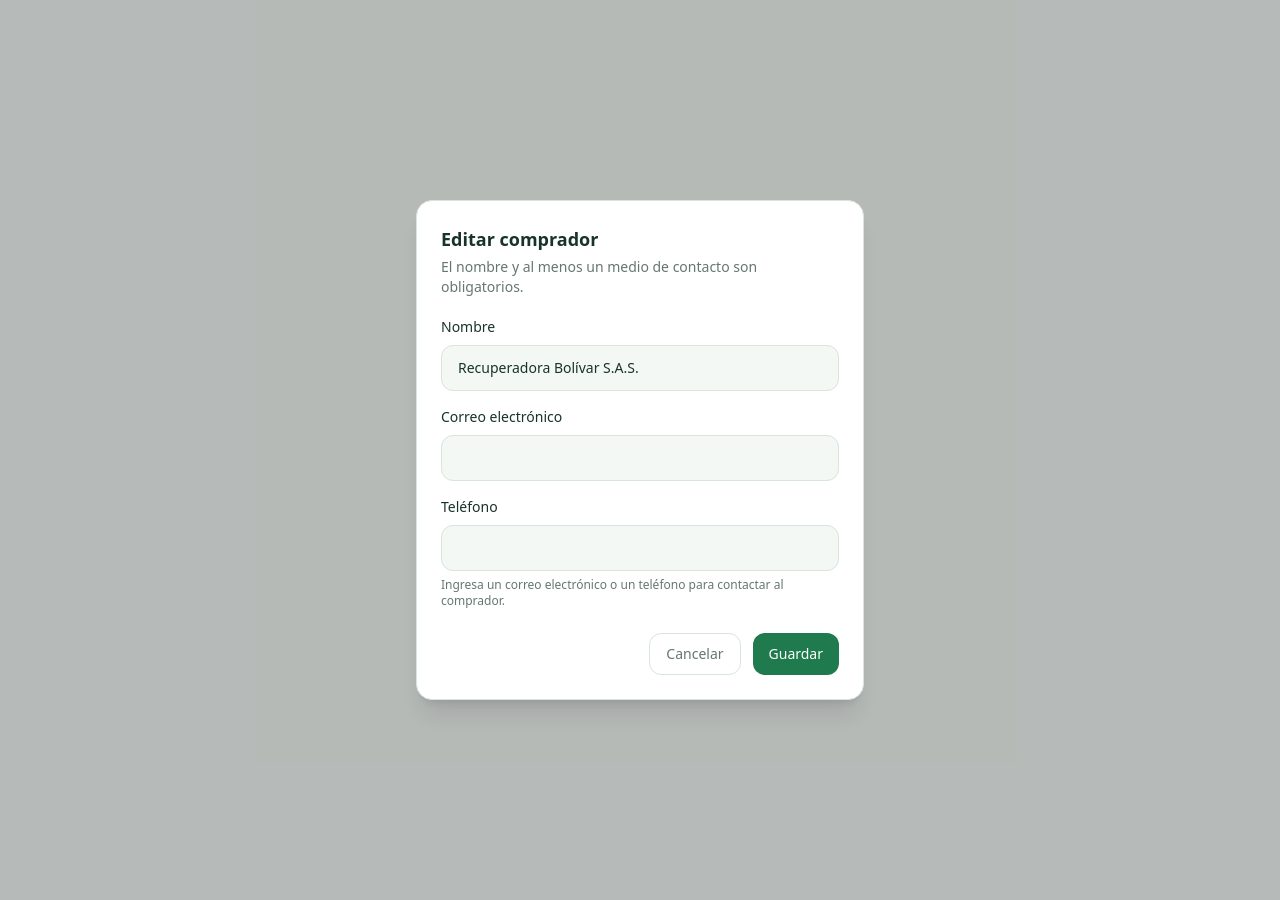
BuyerFormModal Component - Gestión de Compradores y Accesibilidad › 7. Mantiene visible un comprador antiguo sin contacto y valida únicamente al guardar
Expected: the field showing "Recuperadora Bolívar S.A.S." is shown, [441, 345, 839, 391]
Click the button "Guardar" at (796, 654), box [752, 633, 839, 675]
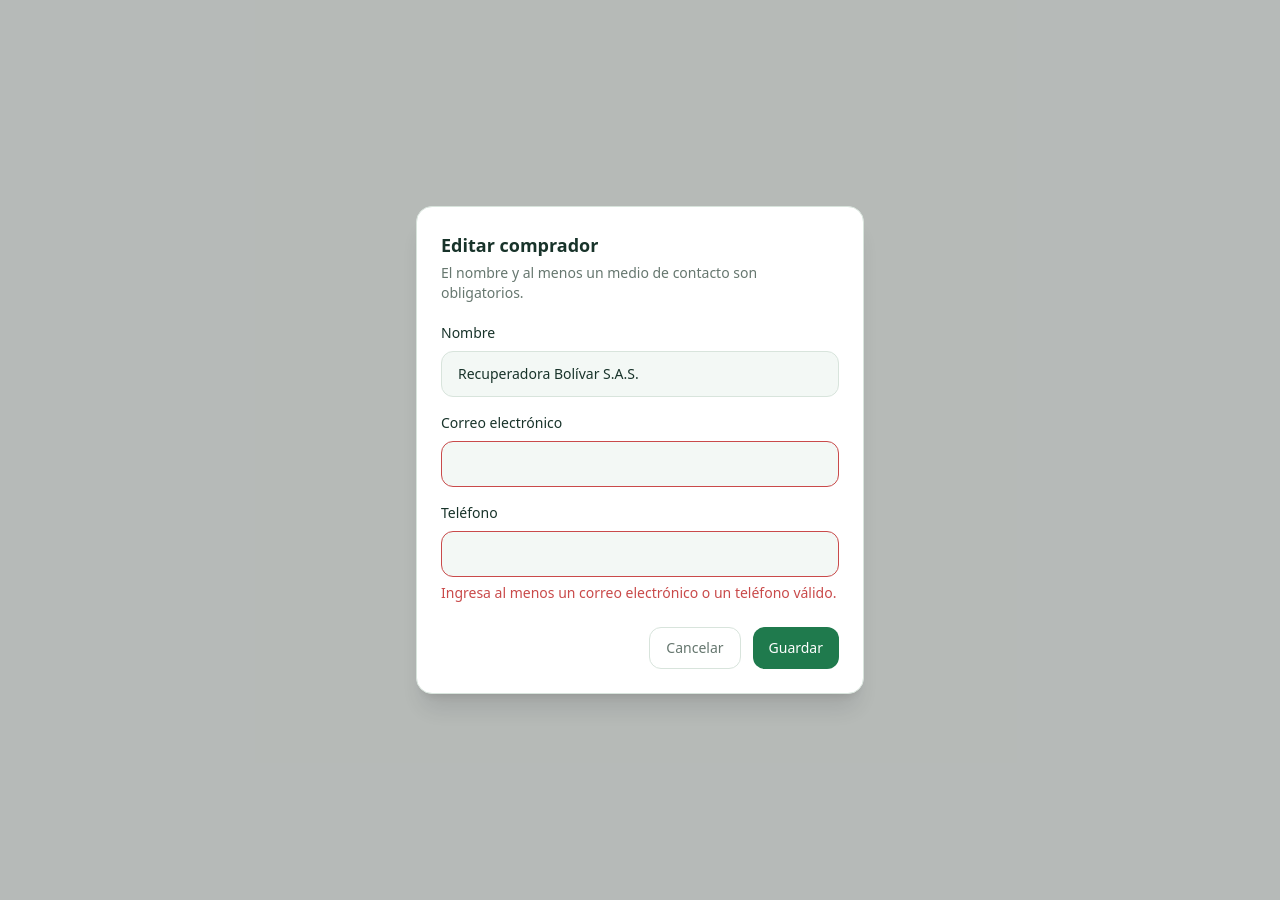
Expected: the text "Ingresa al menos un correo electrónico o un teléfono válido." is shown, [441, 583, 839, 603]
